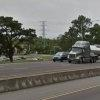Car: (51, 46, 67, 63)
